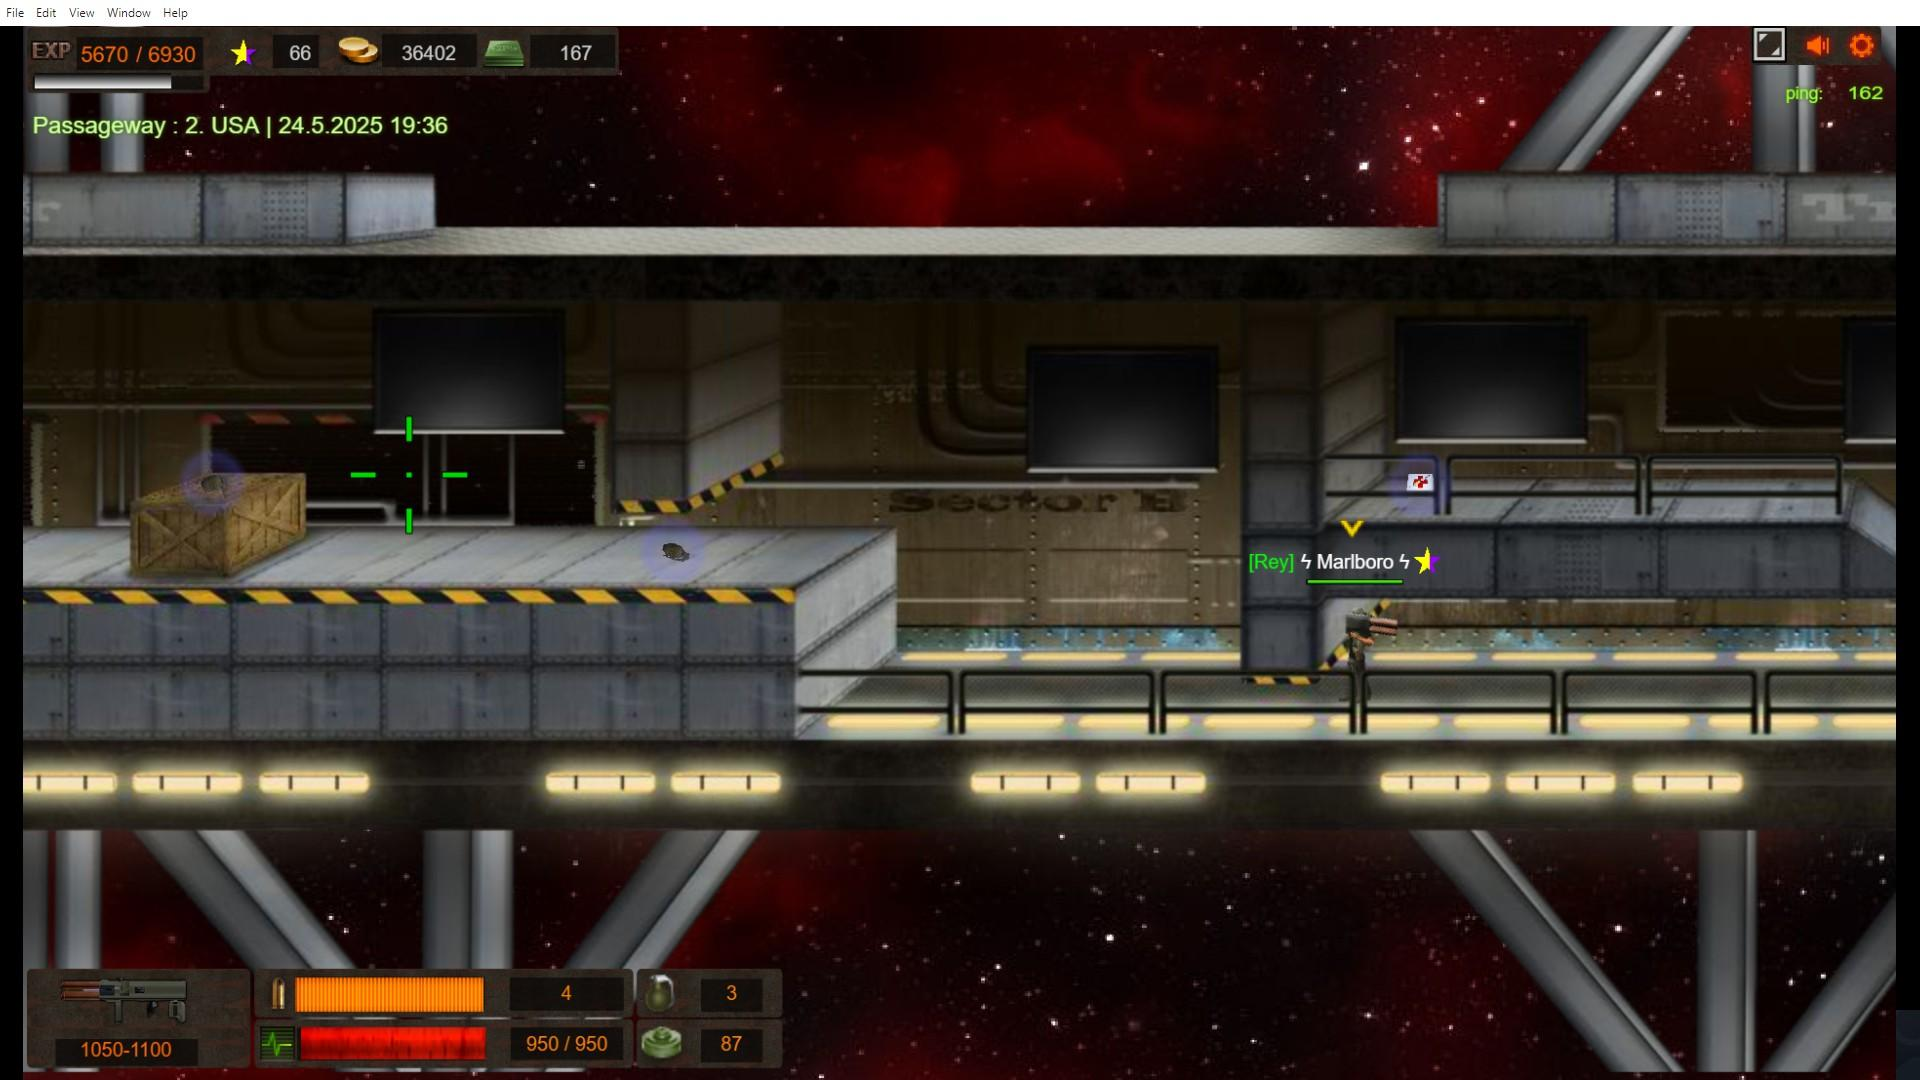enemy: (1338, 603, 1375, 700)
